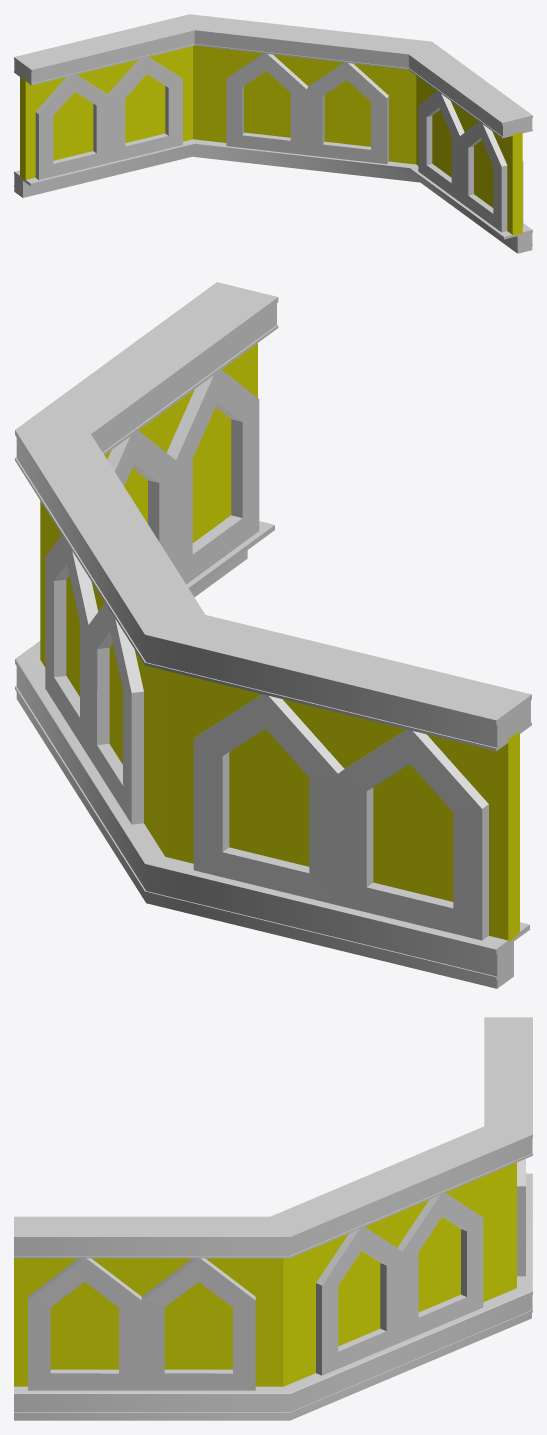
File: Mesh_Railing_b01.fbx
The picture shows the model from 3 angles, top to bottom: view 1: azimuth 30°, elevation 25°; view 2: azimuth 150°, elevation 25°; view 3: azimuth 270°, elevation 25°; orthographic projection. The views are drawn at different scales.
Parts seen in each view (by area): view 1: Mesh_Railing_Corner_a01; view 2: Mesh_Railing_Corner_a01; view 3: Mesh_Railing_Corner_a01.
Part boxes in pixels (x1=…): Mesh_Railing_Corner_a01: x1=14, y1=14, x2=532, y2=253; Mesh_Railing_Corner_a01: x1=15, y1=282, x2=531, y2=988; Mesh_Railing_Corner_a01: x1=14, y1=1017, x2=532, y2=1420.
Size of the model in its own units: 24.11 by 9.41 by 24.05.
